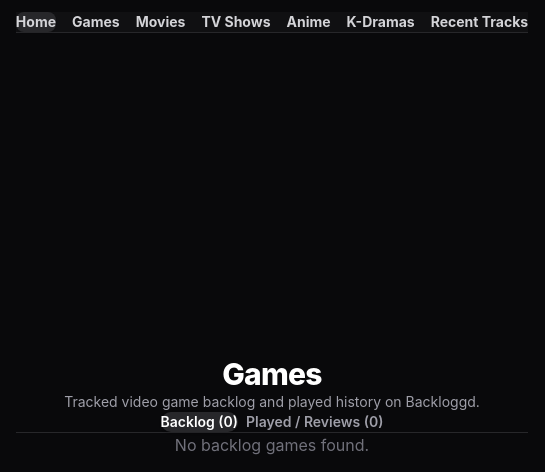
Test: Games Page › handles empty backlog and played arrays safely
Expected: the tab "Backlog (0)" is shown, [160,412,238,432]
Expected: the text "No backlog games found." is shown, [175,435,369,455]
Click the tab "Played / Reviews (0)" at (315, 422), box [246,412,383,432]
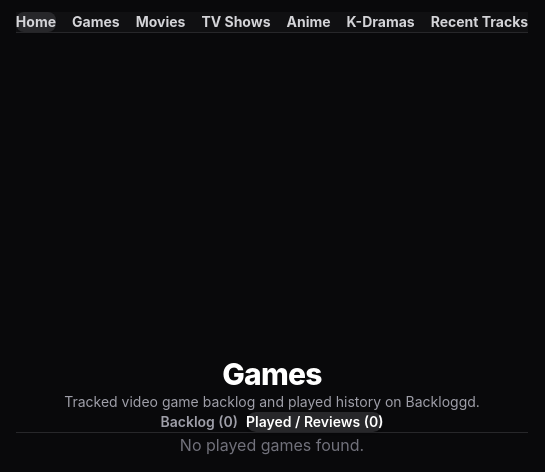
Expected: the text "No played games found." is shown, [180,435,364,455]
